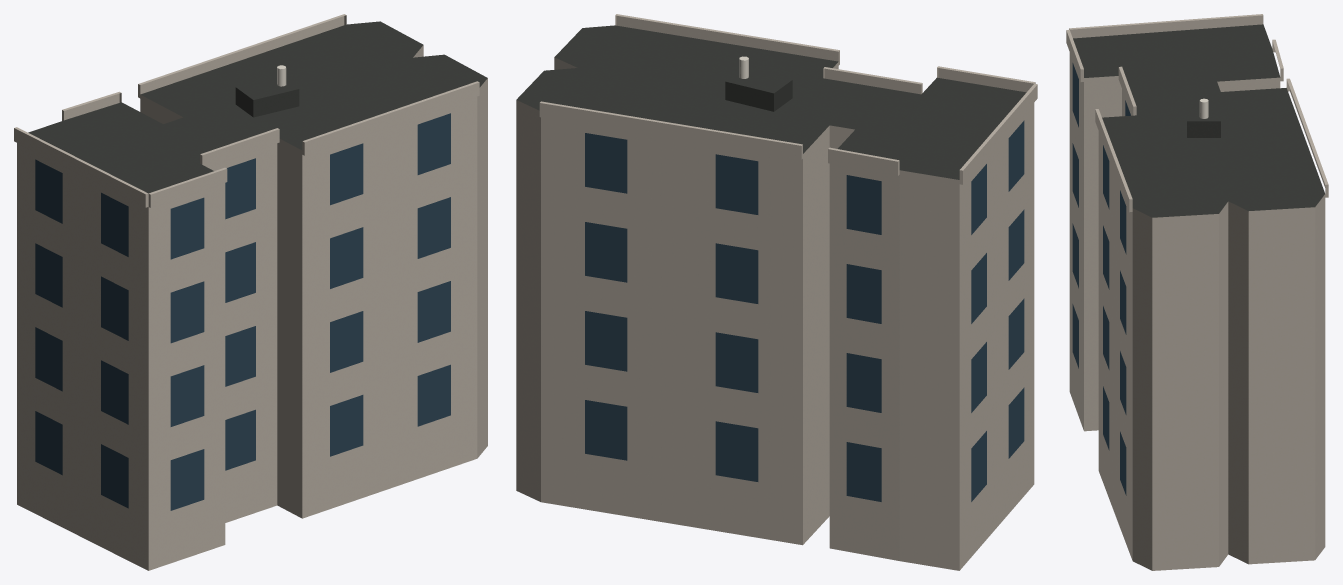
The picture shows the model from 3 angles, left to right: view 1: azimuth 30°, elevation 25°; view 2: azimuth 150°, elevation 25°; view 3: azimuth 270°, elevation 25°; orthographic projection. The views are drawn at different scales.
Visible parts, largest first — view 1: Footprint 0 / surface 2, Inset glazing, Footprint 0 / surface 1, Facade bay volumes, Inferred rooftop service enclosure / surface 5, Inferred rooftop service enclosure / surface 3; view 2: Footprint 0 / surface 2, Footprint 0 / surface 1, Inset glazing, Facade bay volumes, Inferred rooftop service enclosure / surface 6, Inferred rooftop service enclosure / surface 3; view 3: Footprint 0 / surface 2, Footprint 0 / surface 1, Facade bay volumes, Inset glazing, Inferred rooftop service enclosure / surface 3, Inferred rooftop service enclosure / surface 1.
Boxes of the visible parts, <box> form: Footprint 0 / surface 2: <box>17,45,487,570</box>; Inset glazing: <box>35,113,450,510</box>; Footprint 0 / surface 1: <box>28,21,487,193</box>; Facade bay volumes: <box>14,14,479,207</box>; Inferred rooftop service enclosure / surface 5: <box>253,89,299,117</box>; Inferred rooftop service enclosure / surface 3: <box>236,77,298,99</box>; Footprint 0 / surface 2: <box>516,57,1034,570</box>; Footprint 0 / surface 1: <box>516,25,1026,179</box>; Inset glazing: <box>585,120,1024,501</box>; Facade bay volumes: <box>539,14,1037,184</box>; Inferred rooftop service enclosure / surface 6: <box>725,81,773,111</box>; Inferred rooftop service enclosure / surface 3: <box>725,69,792,93</box>; Footprint 0 / surface 2: <box>1069,52,1325,570</box>; Footprint 0 / surface 1: <box>1073,24,1324,217</box>; Facade bay volumes: <box>1066,14,1328,212</box>; Inset glazing: <box>1072,63,1130,495</box>; Inferred rooftop service enclosure / surface 3: <box>1187,100,1220,121</box>; Inferred rooftop service enclosure / surface 1: <box>1187,121,1220,137</box>.
Bounding box in the file's own units: 16.29 × 15.07 × 9.27.
